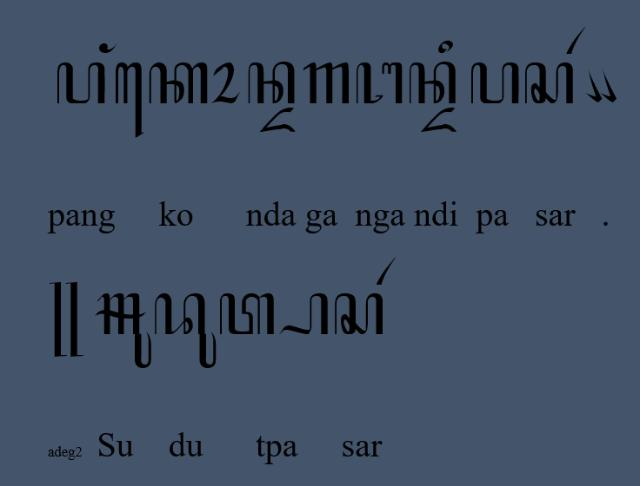Su: (95, 292, 153, 369)
_d: (258, 106, 296, 134), (419, 108, 457, 134)
_p: (277, 292, 329, 336)
_r1: (373, 255, 397, 287), (565, 25, 587, 55)
adeg2: (48, 282, 84, 358)
du: (154, 293, 218, 369)
e1: (114, 61, 146, 139)
g: (302, 62, 350, 104)
i: (436, 39, 454, 55)
k: (148, 61, 208, 105)
kom: (600, 66, 618, 104), (584, 68, 602, 102)
n: (247, 60, 297, 105), (408, 60, 458, 105)
ng: (96, 41, 118, 55)
nga: (354, 61, 404, 105)
o: (210, 60, 242, 105)
p: (56, 61, 106, 105), (471, 61, 521, 105)
s: (334, 292, 386, 338), (524, 61, 574, 105)
t: (218, 292, 276, 338)
